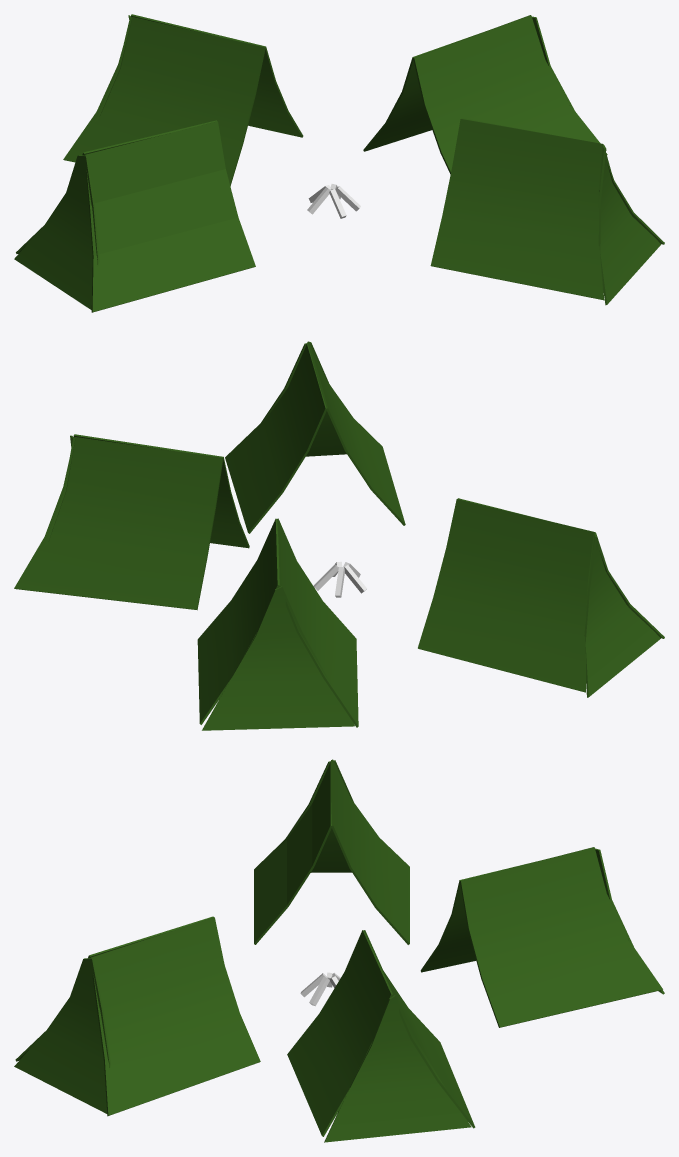
The model's file is tente.fbx.
3 views of the same model, one above another, from view 1: azimuth 30°, elevation 25°; view 2: azimuth 150°, elevation 25°; view 3: azimuth 270°, elevation 25° (orthographic). The views are drawn at different scales.
Visible parts, largest first — view 1: Plane.002, Plane.004, Plane.001, Plane.003, Cube; view 2: Plane.002, Plane.003, Plane.001, Plane.004, Cube; view 3: Plane.004, Plane.001, Plane.003, Plane.002, Cube.
Part boxes in pixels (x1=…): Plane.002: x1=14, y1=120, x2=255, y2=312; Plane.004: x1=430, y1=118, x2=664, y2=305; Plane.001: x1=63, y1=14, x2=303, y2=186; Plane.003: x1=363, y1=15, x2=607, y2=174; Cube: x1=307, y1=184, x2=360, y2=218; Plane.002: x1=418, y1=498, x2=664, y2=697; Plane.003: x1=14, y1=434, x2=249, y2=610; Plane.001: x1=197, y1=518, x2=358, y2=730; Plane.004: x1=225, y1=341, x2=405, y2=533; Cube: x1=313, y1=561, x2=366, y2=597; Plane.004: x1=14, y1=916, x2=260, y2=1116; Plane.001: x1=420, y1=847, x2=664, y2=1027; Plane.003: x1=287, y1=930, x2=475, y2=1142; Plane.002: x1=254, y1=759, x2=409, y2=944; Cube: x1=300, y1=972, x2=340, y2=1006.
Size of the model in its own units: 850 by 186 by 859.
